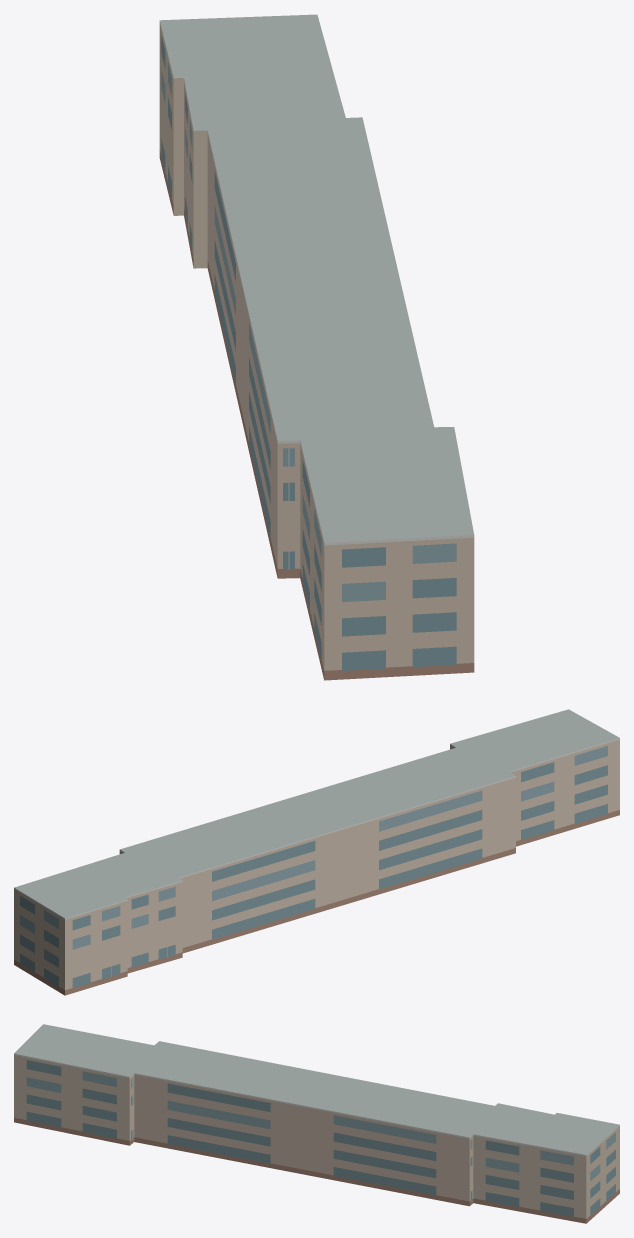
File: survey-upis-33038162.glb
3 views of the same model, one above another, from view 1: azimuth 30°, elevation 25°; view 2: azimuth 150°, elevation 25°; view 3: azimuth 270°, elevation 25° (orthographic). The views are drawn at different scales.
Parts seen in each view (by area): view 1: survey-upis-33038162.tmp; view 2: survey-upis-33038162.tmp; view 3: survey-upis-33038162.tmp.
Part boxes in pixels (x1,y1,x2,y2): survey-upis-33038162.tmp: [159, 14, 474, 680]; survey-upis-33038162.tmp: [14, 709, 619, 995]; survey-upis-33038162.tmp: [14, 1024, 619, 1223].
Size of the model in its own units: 49.74 by 12.2 by 97.35.
